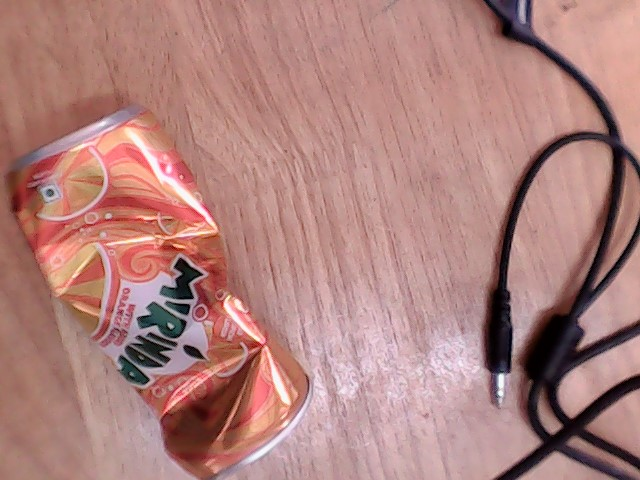Metal: (1, 132, 312, 480)
